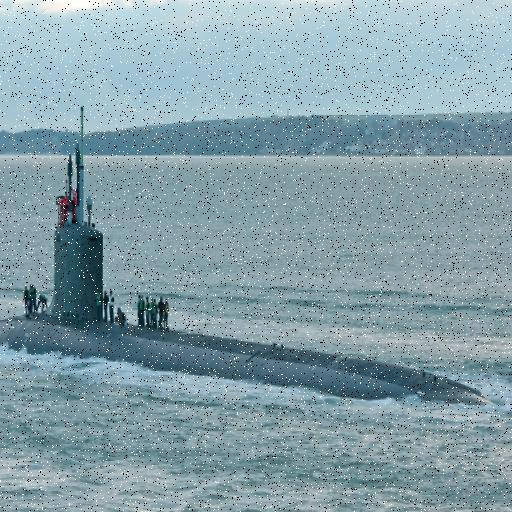submarine: (1, 107, 512, 408)
